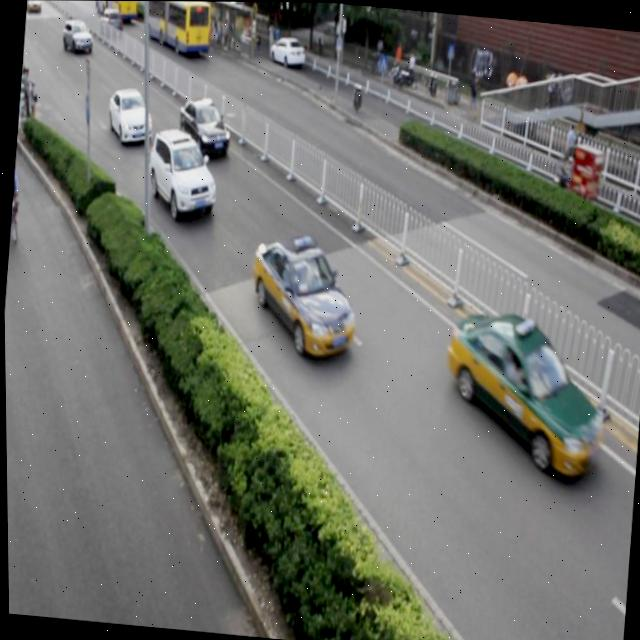car: (436, 304, 611, 478), (246, 228, 361, 360), (143, 127, 220, 222), (174, 94, 233, 160), (105, 86, 156, 146), (267, 32, 306, 71)
van: (140, 1, 212, 56)
